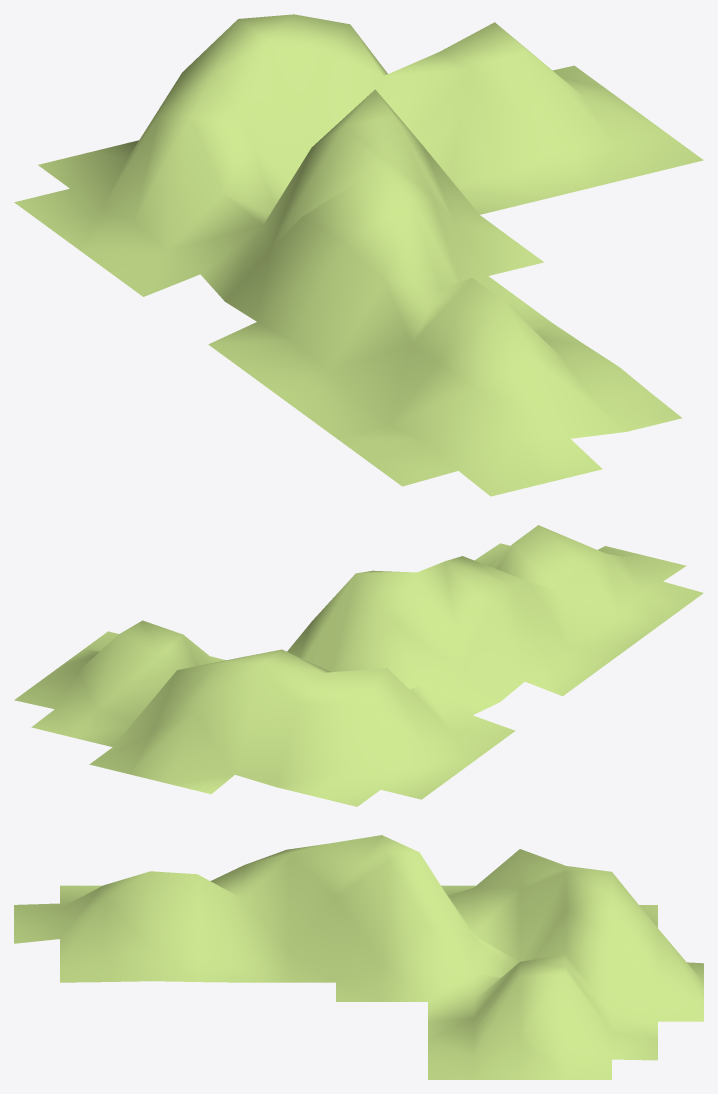
3 renders of one model, top to bottom at view 1: azimuth 30°, elevation 25°; view 2: azimuth 150°, elevation 25°; view 3: azimuth 270°, elevation 25°, orthographic. The views are drawn at different scales.
Parts seen in each view (by area): view 1: Terrain_5_baking; view 2: Terrain_5_baking; view 3: Terrain_5_baking.
Boxes of the visible parts, <box> form: Terrain_5_baking: <box>14,14,703,496</box>; Terrain_5_baking: <box>14,525,703,806</box>; Terrain_5_baking: <box>14,835,703,1079</box>.
Bounding box in the file's own units: 7812 × 2091 × 11719.
